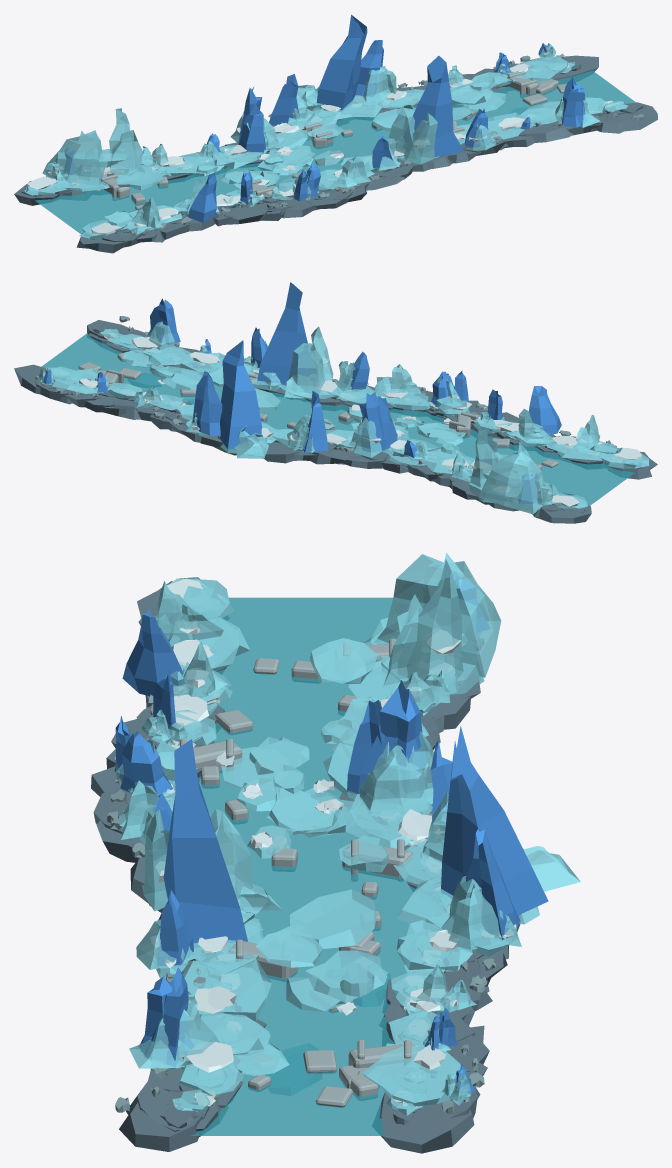
File: b2_glacial_shoreline_v04.glb
The picture shows the model from 3 angles, top to bottom: view 1: azimuth 30°, elevation 25°; view 2: azimuth 150°, elevation 25°; view 3: azimuth 270°, elevation 25°; orthographic projection. The views are drawn at different scales.
Parts seen in each view (by area): view 1: Meandering turquoise water channel, Asymmetric fractured broad ice formation.075, Asymmetric fractured broad ice formation.072, Asymmetric fractured broad ice formation.011, Asymmetric fractured broad ice formation.077, Asymmetric fractured broad ice formation.012, Asymmetric fractured broad ice formation.079, Asymmetric fractured broad ice formation.082, Asymmetric fractured broad ice formation.058, Asymmetric fractured broad ice formation.013, Translucent shelf ice on shoreline.007, Translucent shelf ice on shoreline.023 (+41 smaller); view 2: Meandering turquoise water channel, Asymmetric fractured broad ice formation.072, Asymmetric fractured broad ice formation.075, Asymmetric fractured broad ice formation.011, Asymmetric fractured broad ice formation.079, Asymmetric fractured broad ice formation.082, Asymmetric fractured broad ice formation.050, Asymmetric fractured broad ice formation.015, Asymmetric fractured broad ice formation.013, Asymmetric fractured broad ice formation.058, Translucent shelf ice on shoreline.023, Asymmetric fractured broad ice formation.107 (+38 smaller); view 3: Meandering turquoise water channel, Asymmetric fractured broad ice formation.075, Asymmetric fractured broad ice formation.072, Asymmetric fractured broad ice formation.011, Asymmetric fractured broad ice formation.013, Broken floating glacial plate.020, Translucent shelf ice on shoreline.023, Worn sloping rock shoreline.071, Asymmetric fractured broad ice formation.050, Translucent shelf ice on shoreline.018, Asymmetric fractured broad ice formation.047, Asymmetric fractured broad ice formation.082 (+64 smaller).
Part boxes in pixels (x1,y1,x2,y2): Meandering turquoise water channel: (35, 70, 635, 234); Asymmetric fractured broad ice formation.075: (403, 56, 463, 156); Asymmetric fractured broad ice formation.072: (316, 14, 367, 111); Asymmetric fractured broad ice formation.011: (42, 130, 104, 190); Asymmetric fractured broad ice formation.077: (401, 111, 437, 164); Asymmetric fractured broad ice formation.012: (110, 130, 145, 175); Asymmetric fractured broad ice formation.079: (388, 105, 419, 160); Asymmetric fractured broad ice formation.082: (355, 40, 383, 96); Asymmetric fractured broad ice formation.058: (269, 74, 299, 125); Asymmetric fractured broad ice formation.013: (109, 108, 134, 170); Translucent shelf ice on shoreline.007: (158, 153, 225, 176); Translucent shelf ice on shoreline.023: (506, 56, 567, 82); Meandering turquoise water channel: (41, 333, 634, 505); Asymmetric fractured broad ice formation.072: (219, 340, 262, 449); Asymmetric fractured broad ice formation.075: (257, 282, 313, 388); Asymmetric fractured broad ice formation.011: (478, 442, 542, 514); Asymmetric fractured broad ice formation.079: (281, 343, 325, 395); Asymmetric fractured broad ice formation.082: (193, 371, 222, 435); Asymmetric fractured broad ice formation.050: (359, 392, 384, 452); Asymmetric fractured broad ice formation.015: (529, 386, 561, 434); Asymmetric fractured broad ice formation.013: (470, 429, 498, 491); Asymmetric fractured broad ice formation.058: (303, 391, 328, 452); Translucent shelf ice on shoreline.023: (51, 366, 116, 393); Asymmetric fractured broad ice formation.107: (147, 298, 180, 344); Meandering turquoise water channel: (190, 597, 415, 1135); Asymmetric fractured broad ice formation.075: (163, 739, 247, 947); Asymmetric fractured broad ice formation.072: (441, 726, 548, 915); Asymmetric fractured broad ice formation.011: (375, 552, 501, 677); Asymmetric fractured broad ice formation.013: (397, 559, 464, 693); Broken floating glacial plate.020: (289, 889, 376, 948); Translucent shelf ice on shoreline.023: (362, 1043, 460, 1106); Worn sloping rock shoreline.071: (372, 1092, 474, 1153); Asymmetric fractured broad ice formation.050: (358, 680, 426, 795); Translucent shelf ice on shoreline.018: (182, 958, 271, 1021); Asymmetric fractured broad ice formation.047: (360, 745, 432, 811); Asymmetric fractured broad ice formation.082: (465, 829, 520, 940).
Size of the model in its own units: 23.14 by 4.27 by 8.46.
